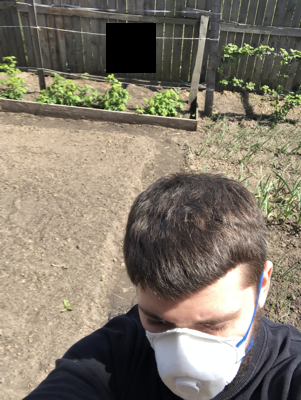with_mask: (137, 294, 253, 400)
